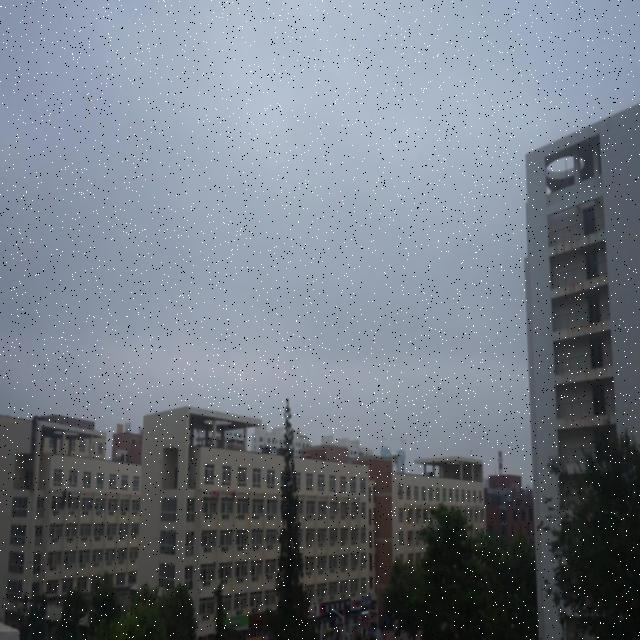UAV: (387, 450, 403, 466)
